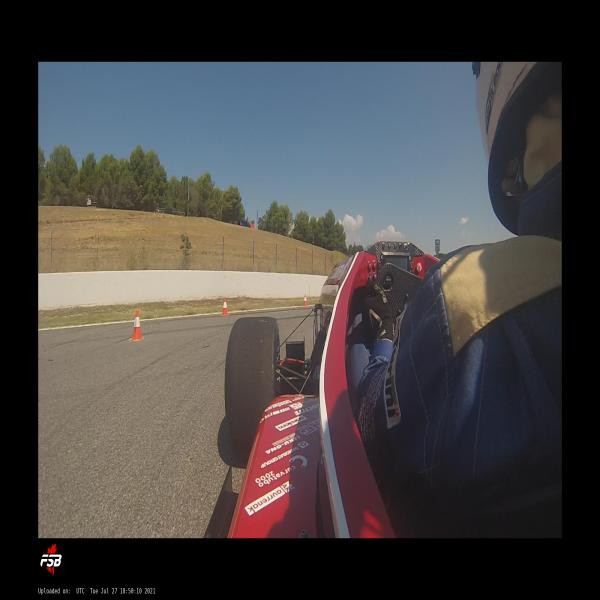orange_cone: (130, 310, 143, 341), (221, 298, 229, 316), (303, 294, 307, 307)
